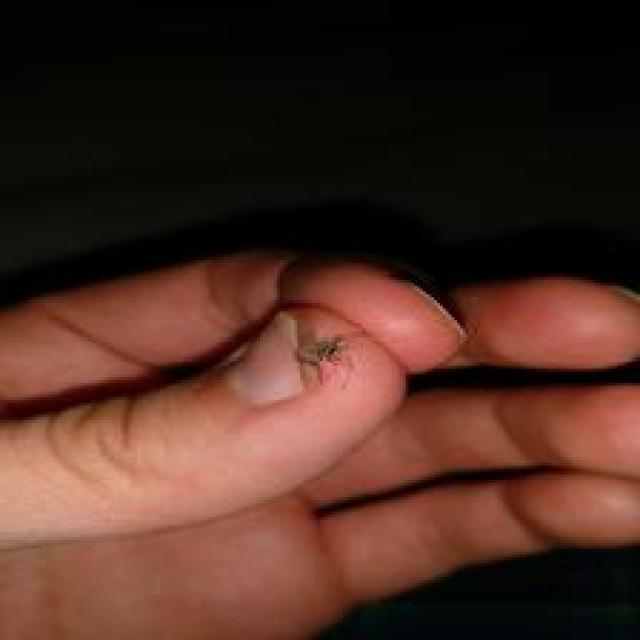Culex: (293, 331, 347, 386)
